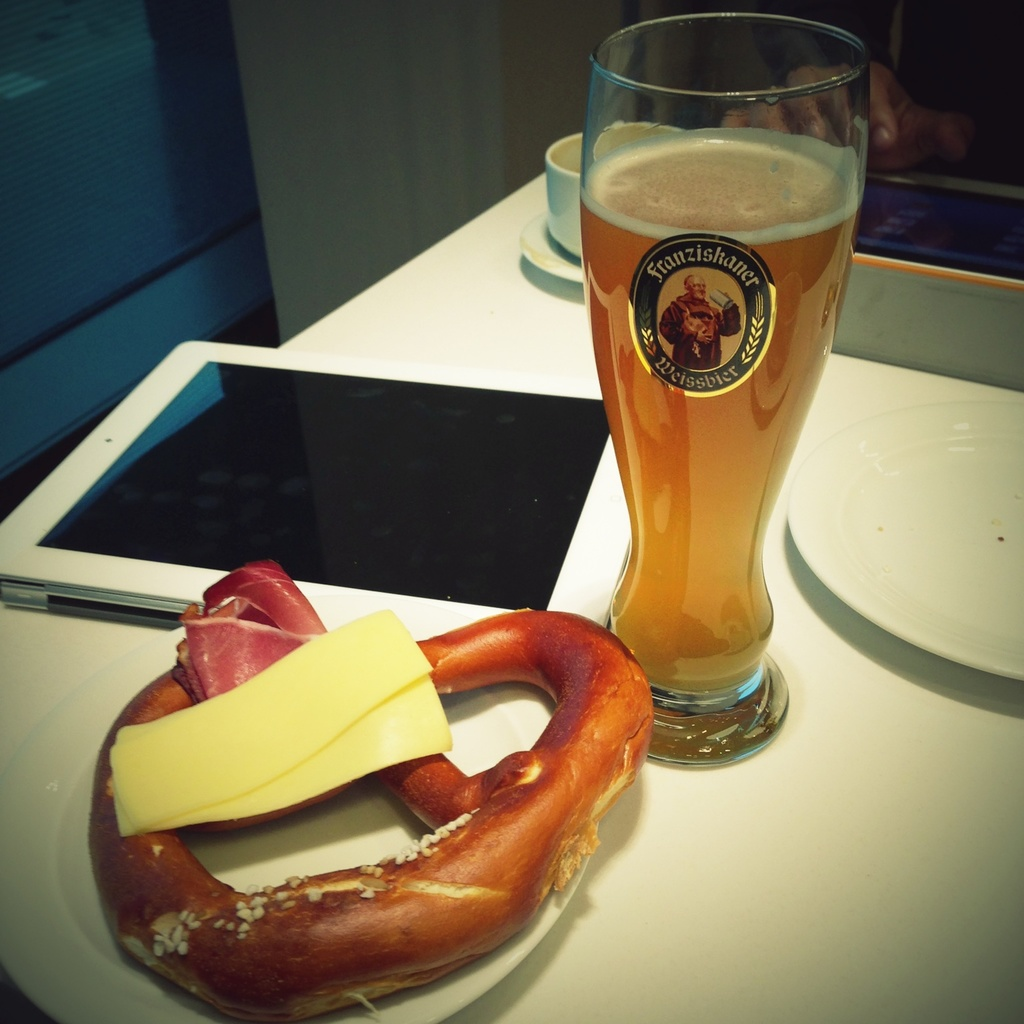Beer: (582, 7, 856, 769)
